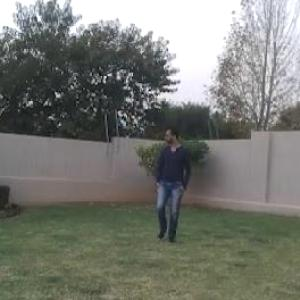follow: (154, 123, 188, 240)
